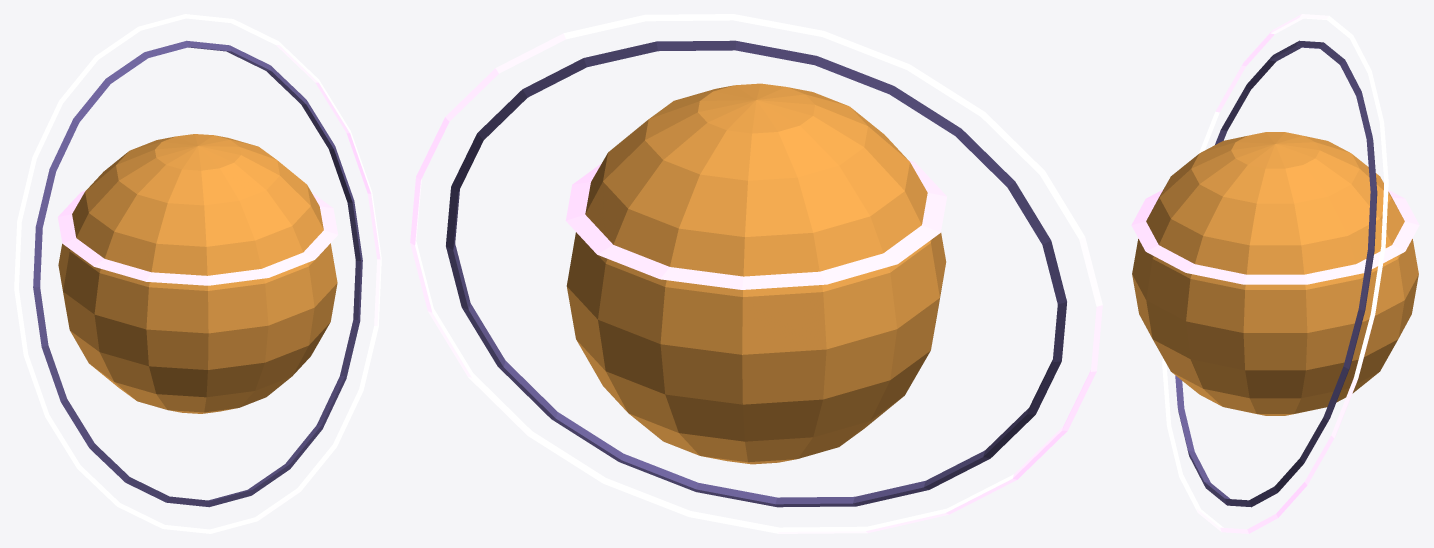
The model's file is Planet_Ringed.glb.
3 views of the same model, side by side, from view 1: azimuth 30°, elevation 25°; view 2: azimuth 150°, elevation 25°; view 3: azimuth 270°, elevation 25° (orthographic). The views are drawn at different scales.
Visible parts, largest first — view 1: Planet_Ringed; view 2: Planet_Ringed; view 3: Planet_Ringed.
Boxes of the visible parts, x1,y1,x2,y2 form: Planet_Ringed: [14, 14, 381, 533]; Planet_Ringed: [410, 14, 1102, 533]; Planet_Ringed: [1131, 14, 1419, 533].
Bounding box in the file's own units: 14.04 × 14.04 × 8.04.
1 material, 1 textured.
